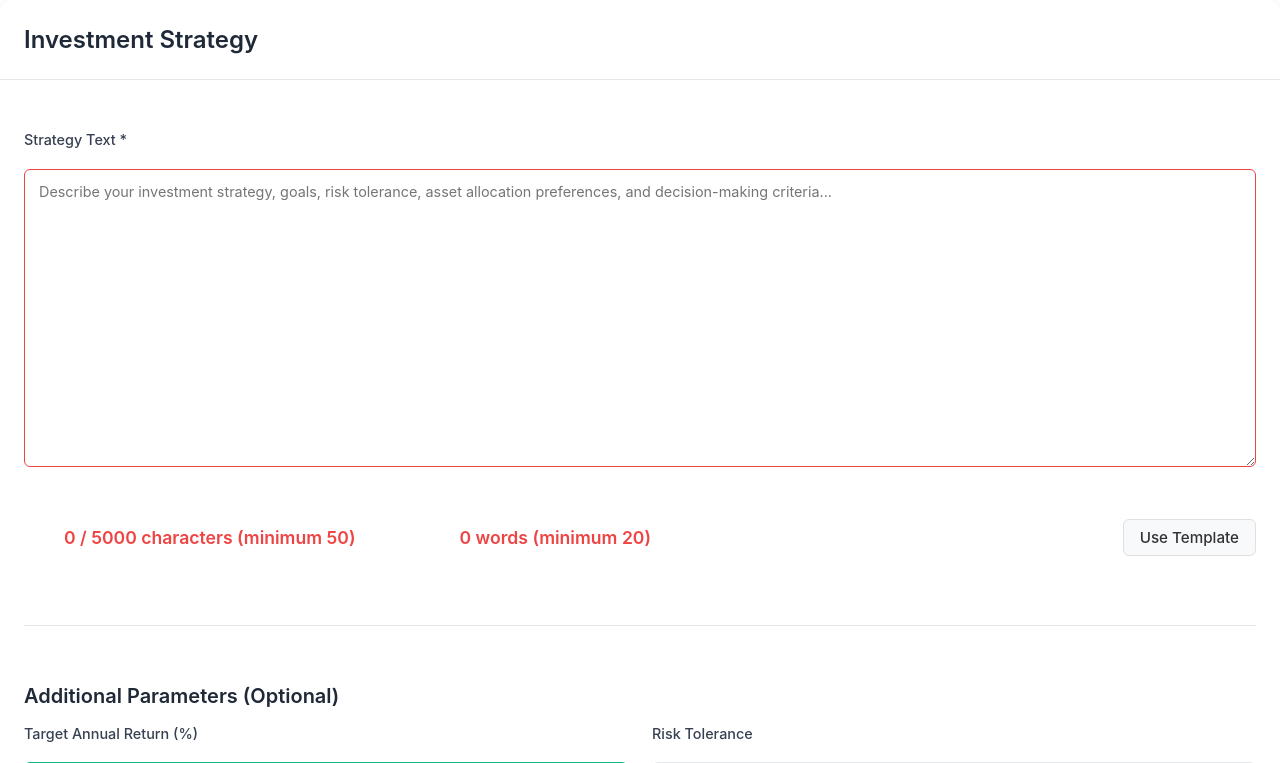
Scenario: StrategyEditorCard › should update word count as user types
Type "One two three four five six seven eight nine ten eleven twelve" into the text box labelled "Strategy Text *" at (640,318), box [24, 169, 1256, 467]
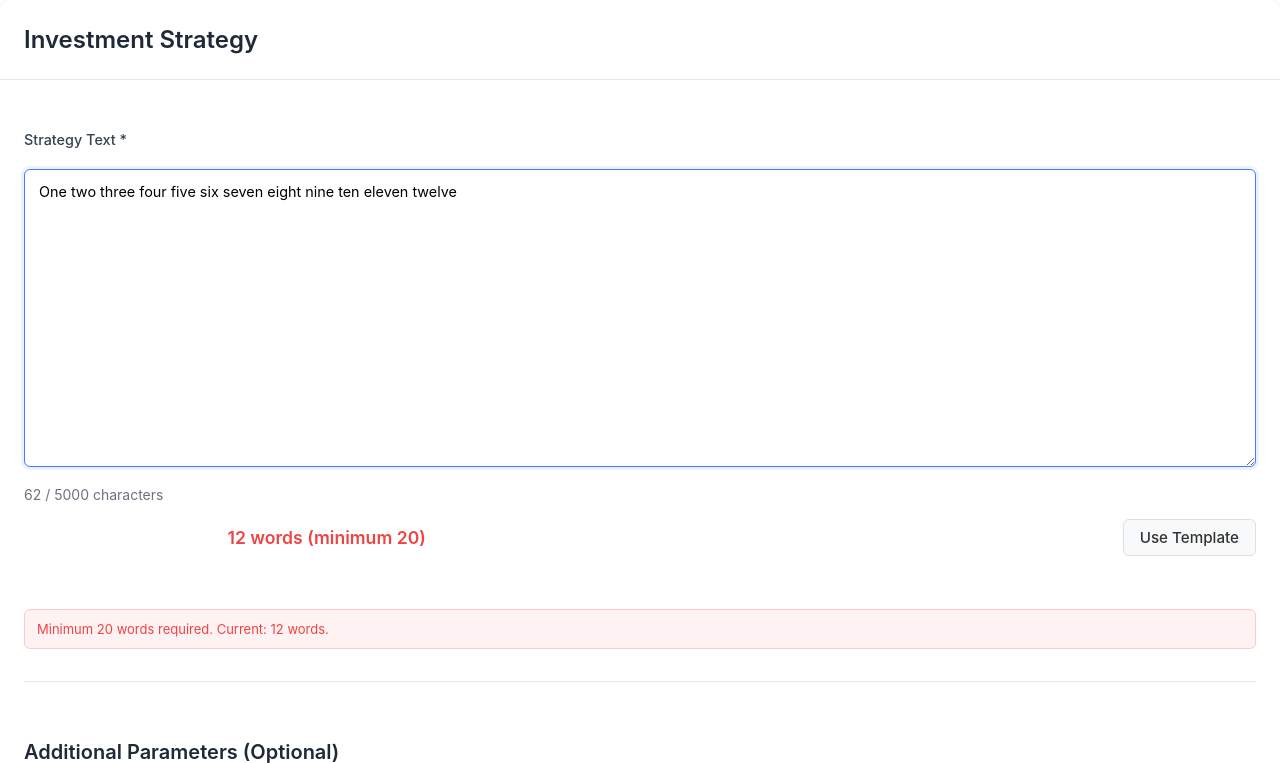
Expected: the element with class "counters" shows "12 words", [24, 486, 426, 548]
